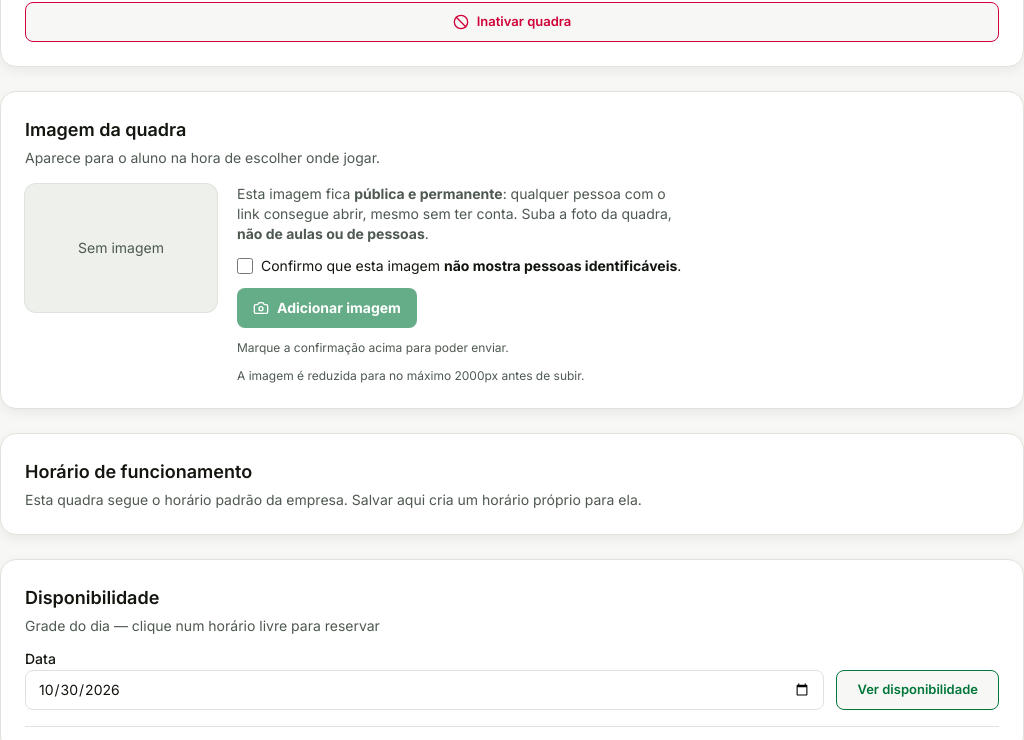
Test case: CourtManager — a reserva de mais de uma hora › SPEC-039: o campo de preco so aparece com professor escolhido
(page scrolled)
Click the button "Ver disponibilidade".
click(918, 690)  # box 836,670 -> 999,710
(page scrolled)
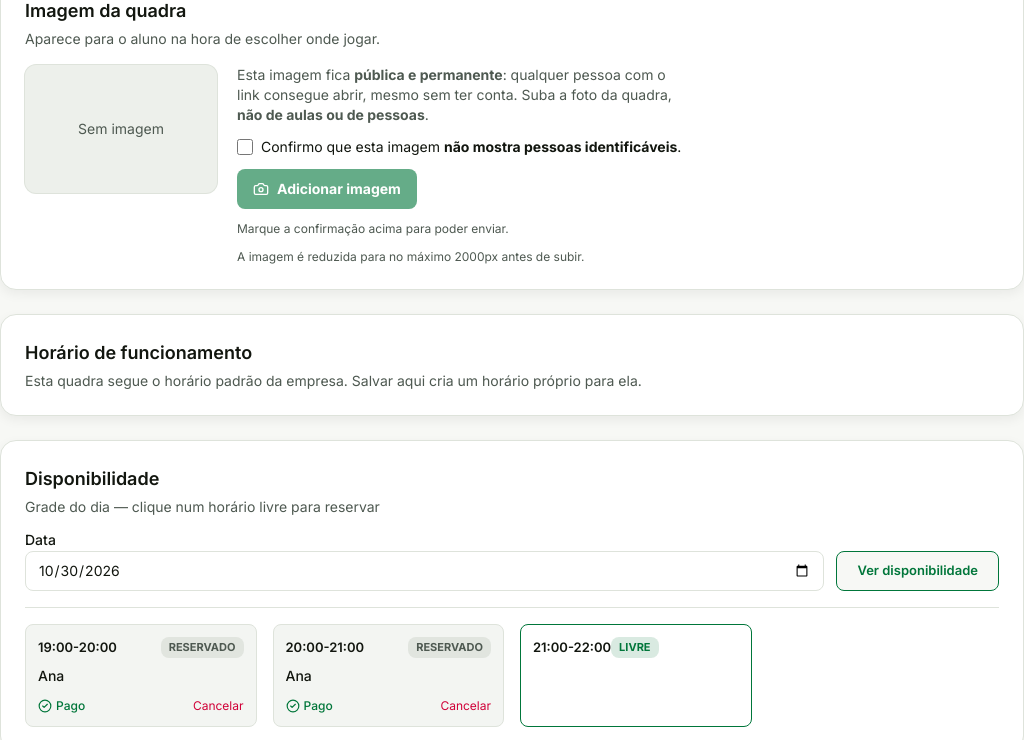
Click the button "21:00-22:00 Livre".
click(636, 675)  # box 520,624 -> 752,726
(page scrolled)
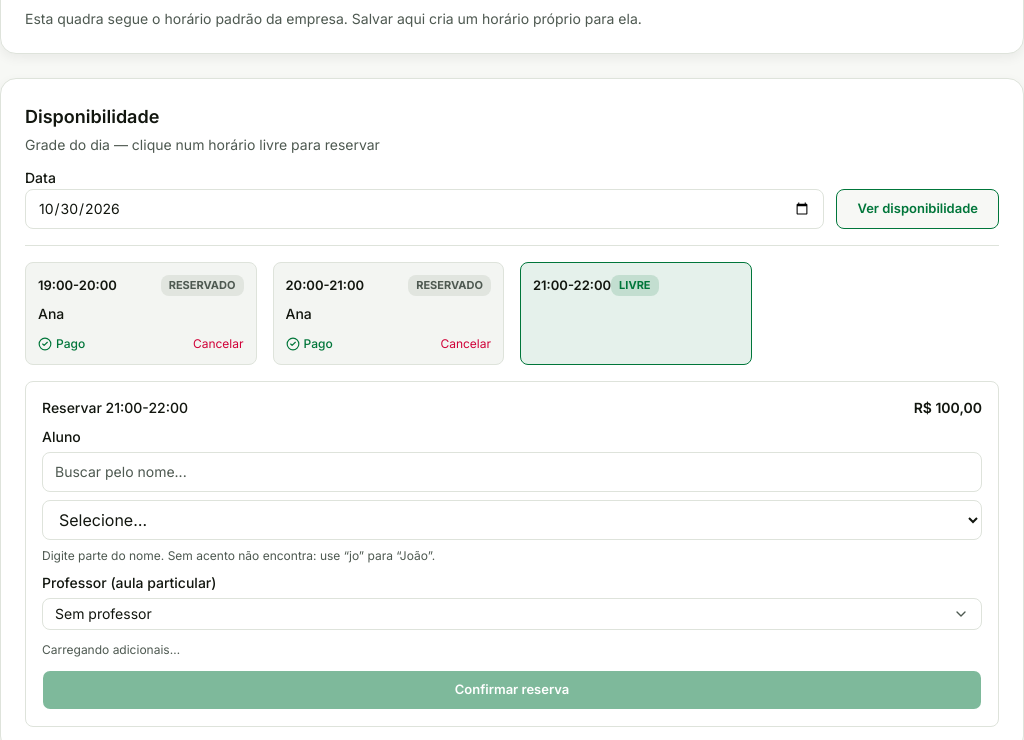
expect the field labelled "Valor da aula" is not shown: met
Click the dropdown labelled "Sem professor".
click(103, 613)  # box 42,598 -> 982,630
(page scrolled)
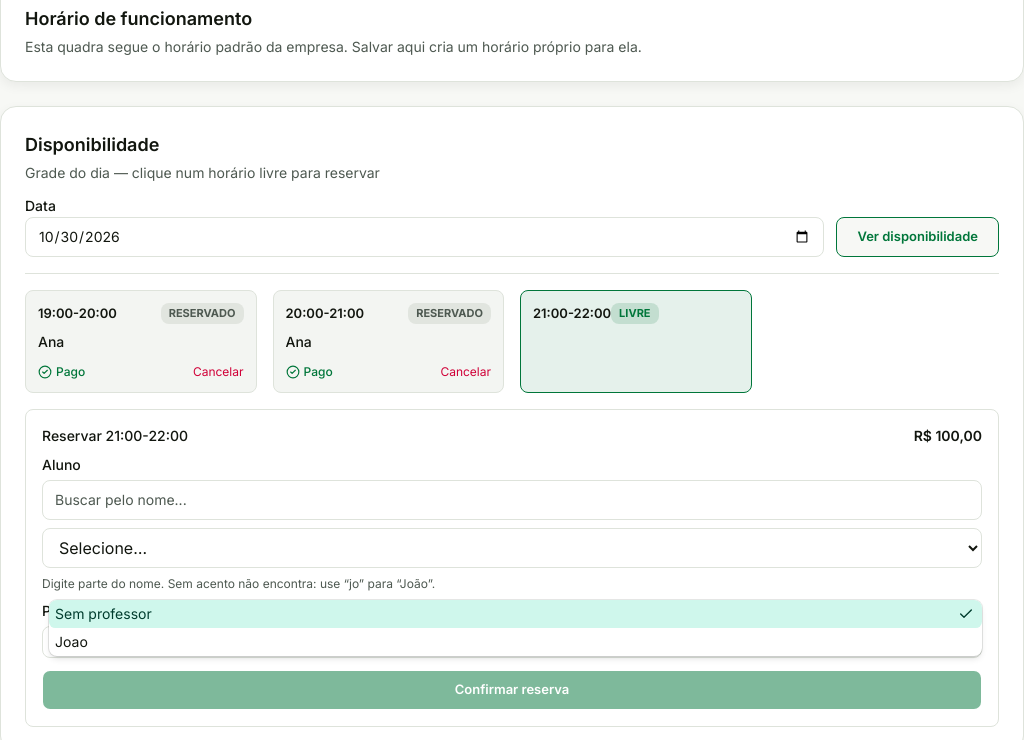
Click the option "Joao".
click(71, 641)  # box 55,632 -> 88,650
(page scrolled)
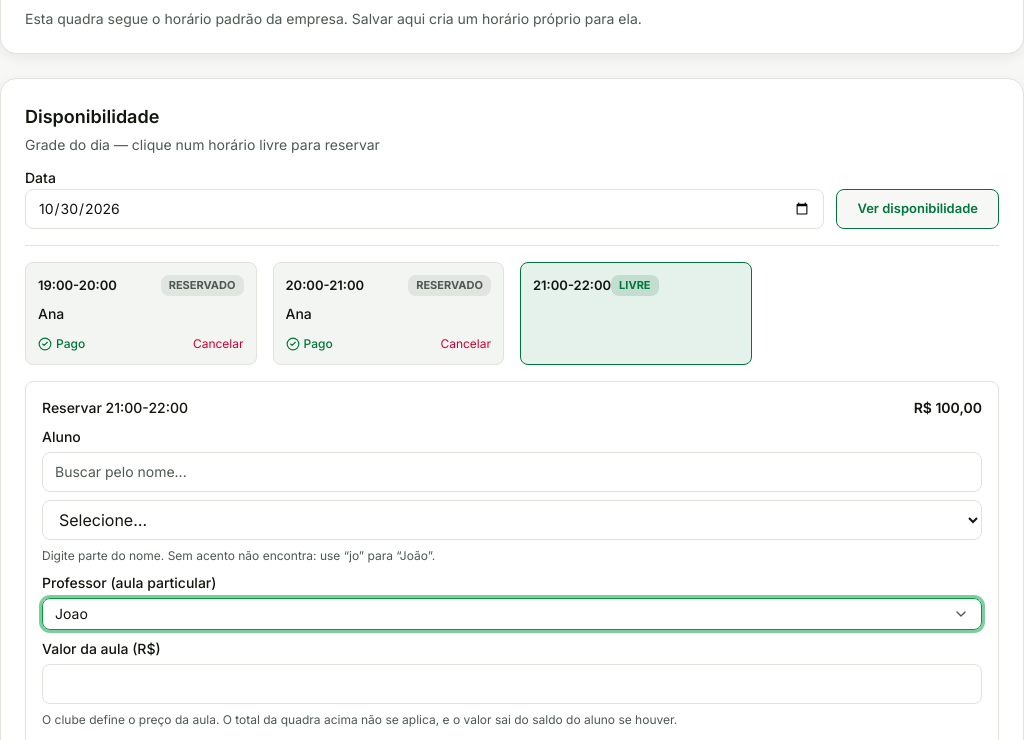
expect the number field labelled "Valor da aula (R$)" is shown: met, box 42,664 -> 982,704
